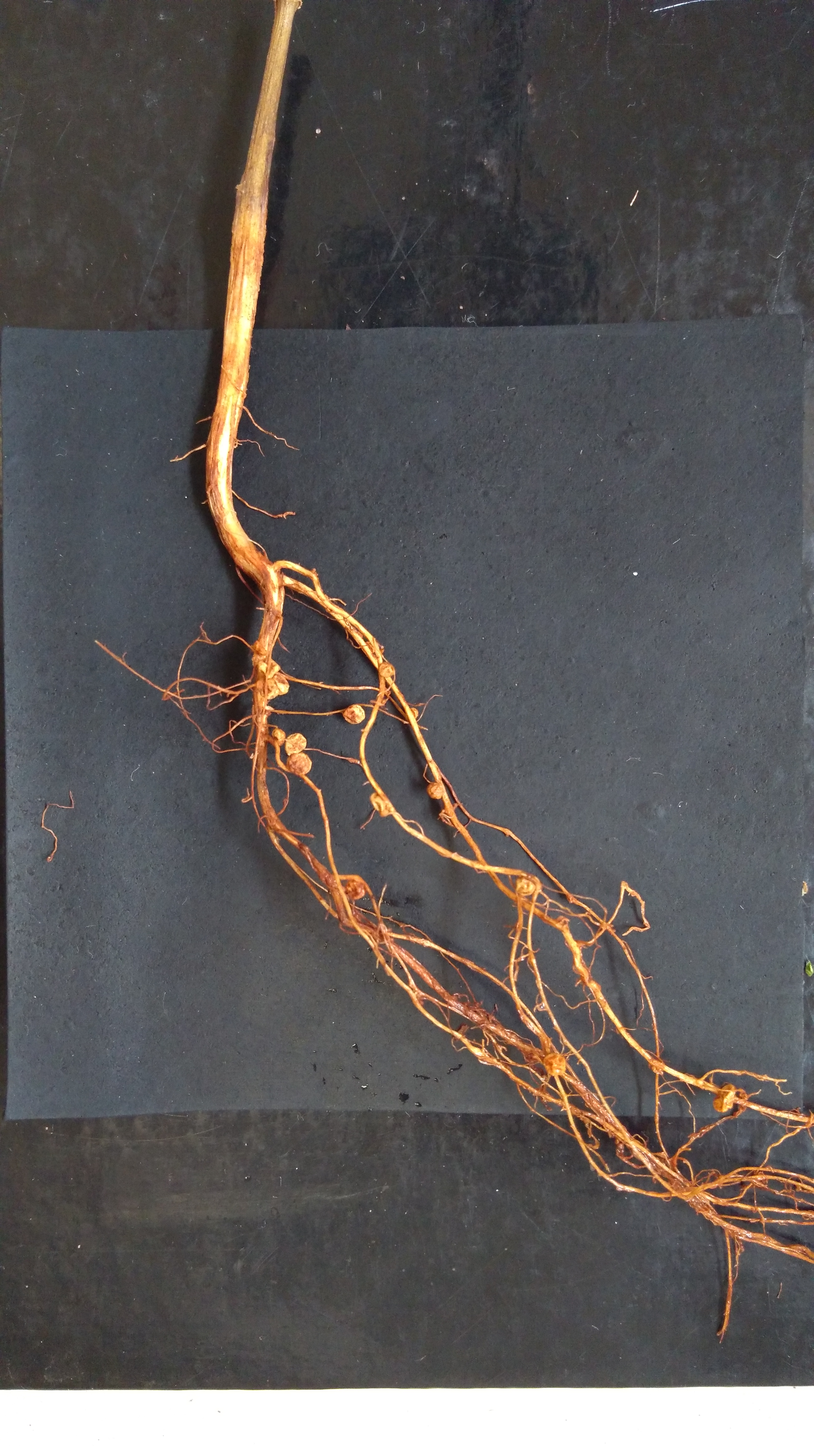nodule: (264, 674, 292, 701), (712, 1082, 736, 1113), (285, 751, 313, 777), (340, 703, 366, 728), (542, 1051, 567, 1077), (367, 792, 391, 819), (284, 731, 307, 756), (513, 876, 537, 897), (257, 657, 281, 678), (345, 879, 367, 901), (361, 640, 385, 658), (425, 781, 443, 801), (378, 661, 395, 679), (271, 727, 286, 747), (646, 1060, 664, 1076), (403, 706, 420, 722)
